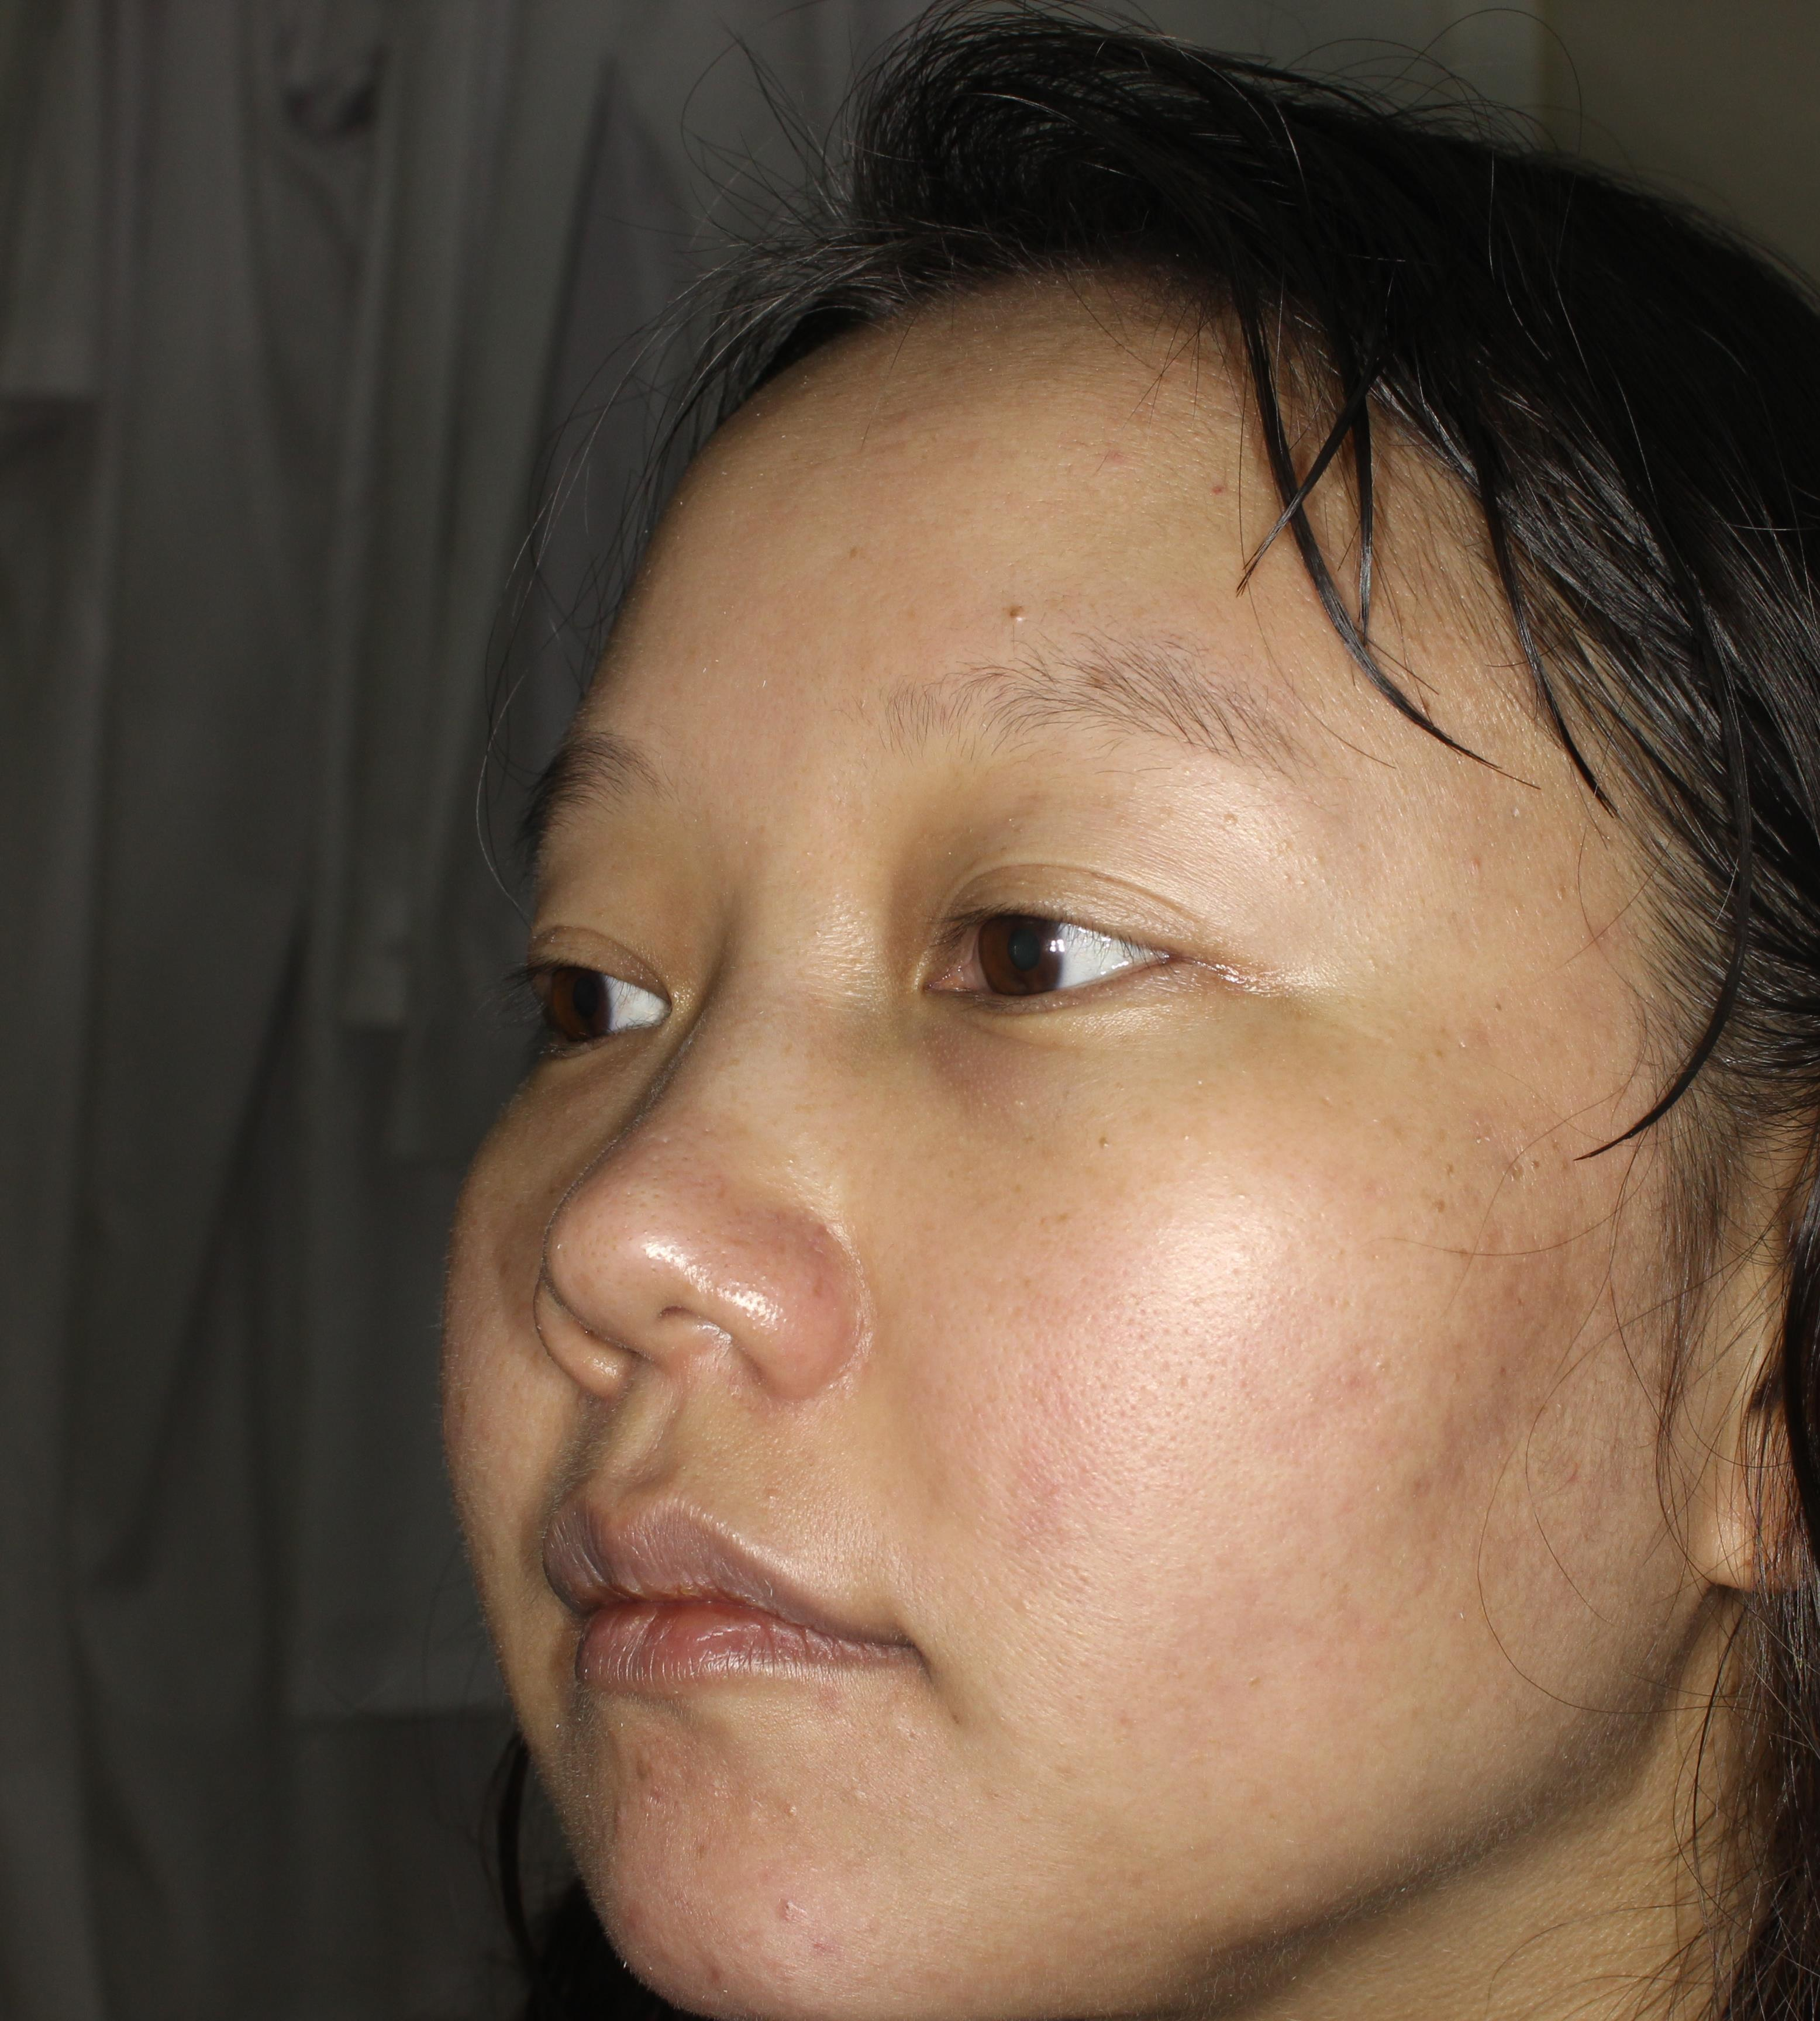fore: (615, 1872, 696, 1967)
